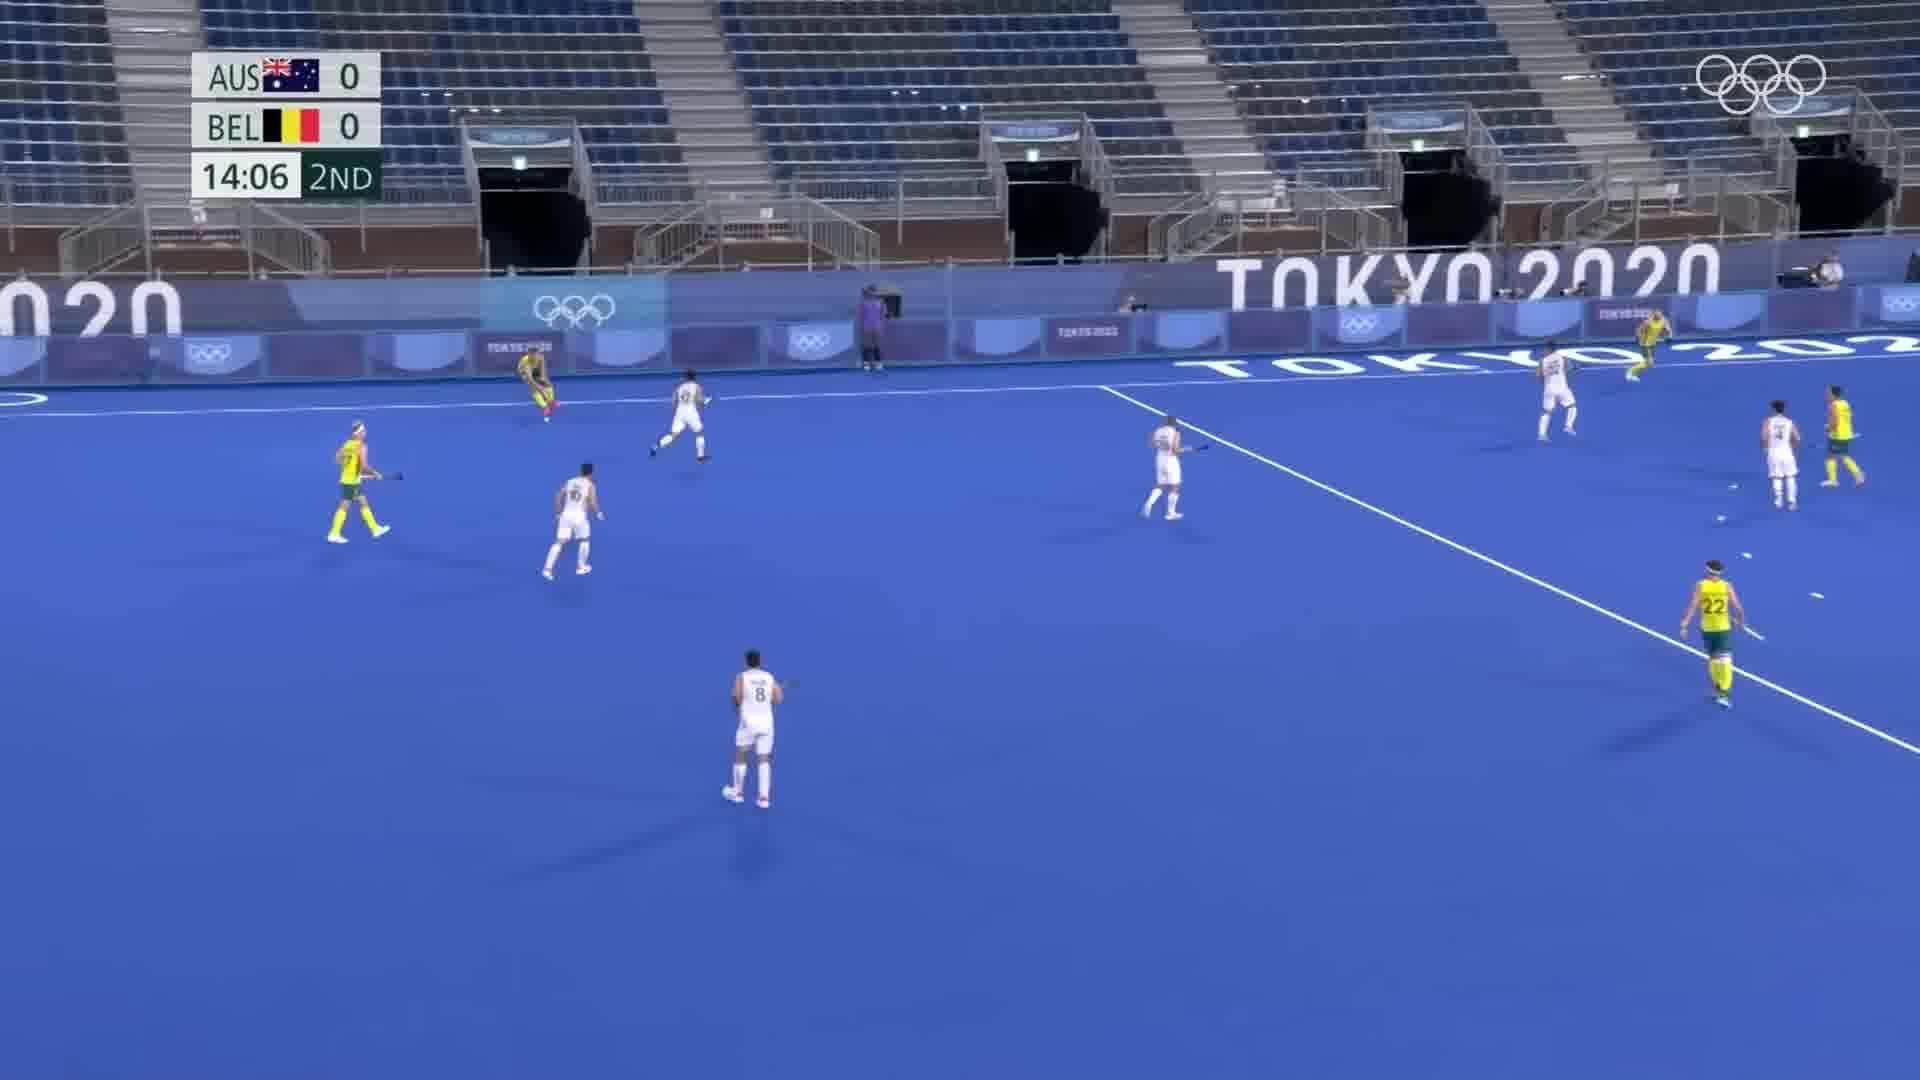ball: (541, 414, 554, 423)
